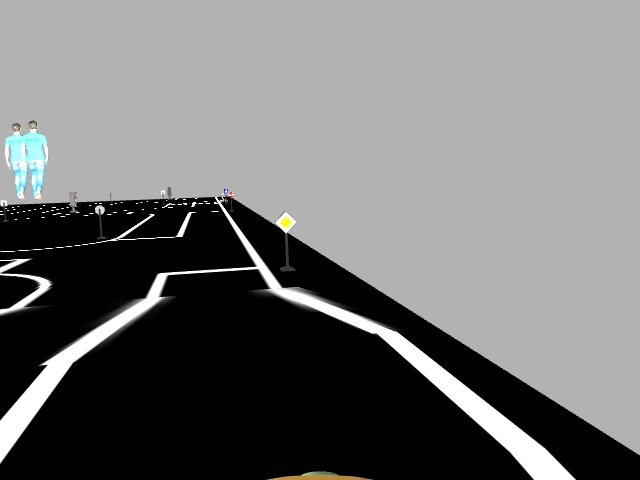Priority: (272, 211, 298, 235)
